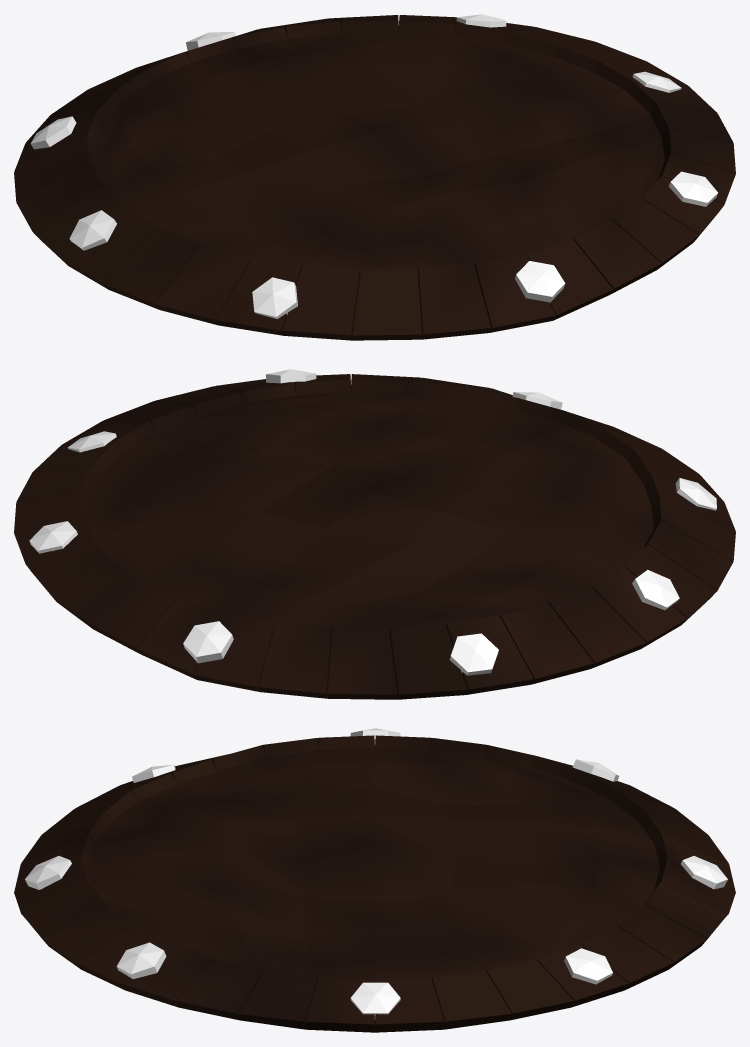
File: shield.fbx
3 views of the same model, one above another, from view 1: azimuth 30°, elevation 25°; view 2: azimuth 150°, elevation 25°; view 3: azimuth 270°, elevation 25° (orthographic).
Visible parts, largest first — view 1: shield; view 2: shield; view 3: shield.
Boxes of the visible parts, bbox=[...] form: shield: bbox=[14, 14, 735, 340]; shield: bbox=[14, 369, 735, 699]; shield: bbox=[14, 728, 735, 1032].
Bounding box in the file's own units: 152 × 13.51 × 152.
